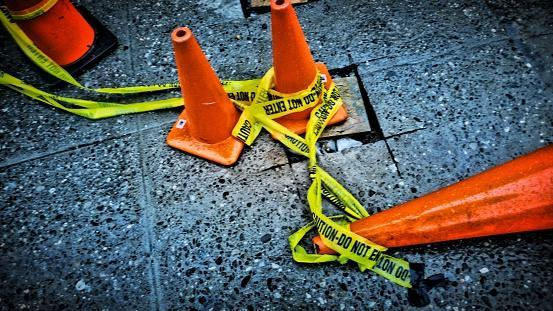Cone: (301, 137, 553, 255), (258, 1, 348, 142), (166, 25, 247, 162), (1, 1, 114, 88)
